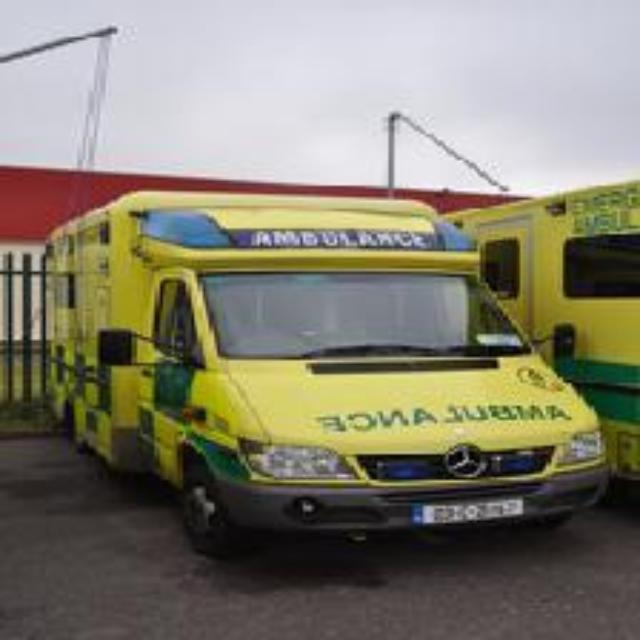emergency: (44, 188, 608, 552), (394, 172, 640, 502)
